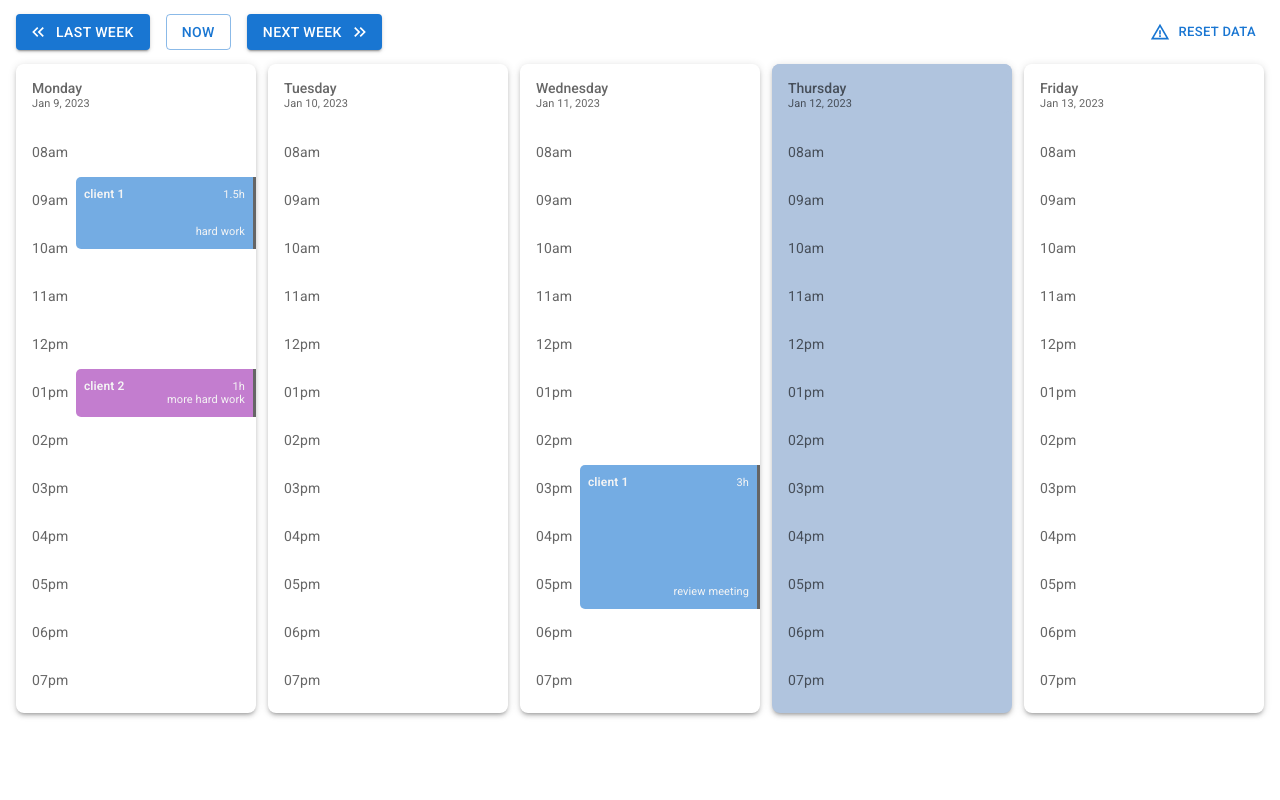
Test case: Calendar › renders the modal
Click the button "09am" in the row of "1.5": (50,200) [32,192,68,208]
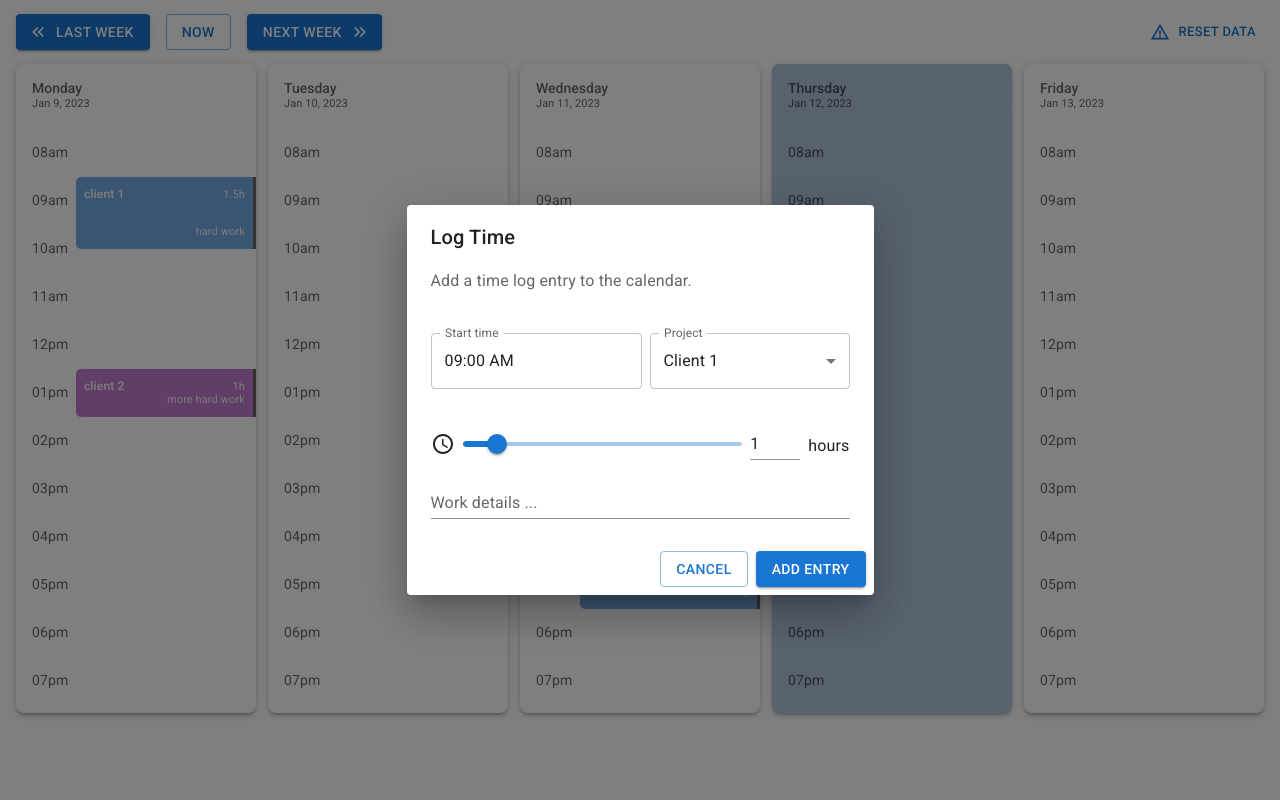
Expected: the heading "Log Time" is shown, [430,225,515,249]
